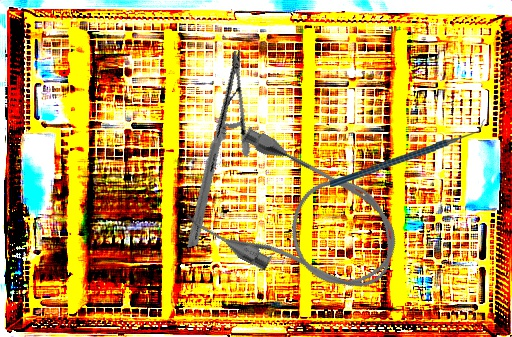Cannula: (180, 119, 418, 321)
Chopper: (328, 118, 487, 188)
Needle Holder: (139, 49, 291, 248)
